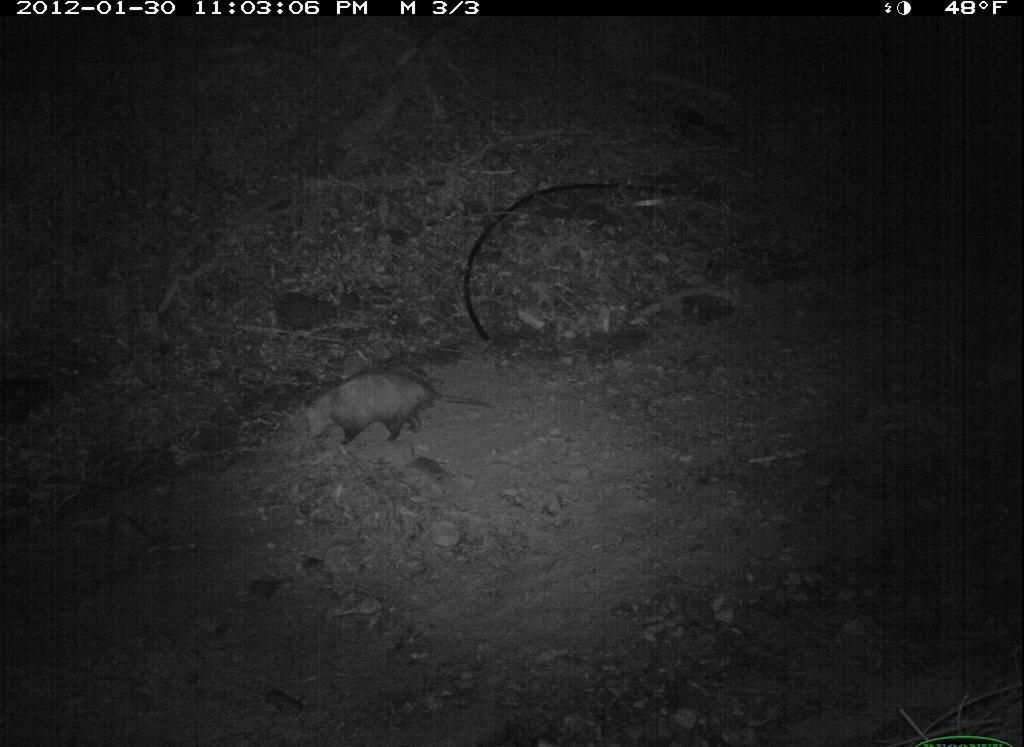opossum: (296, 361, 504, 452)
